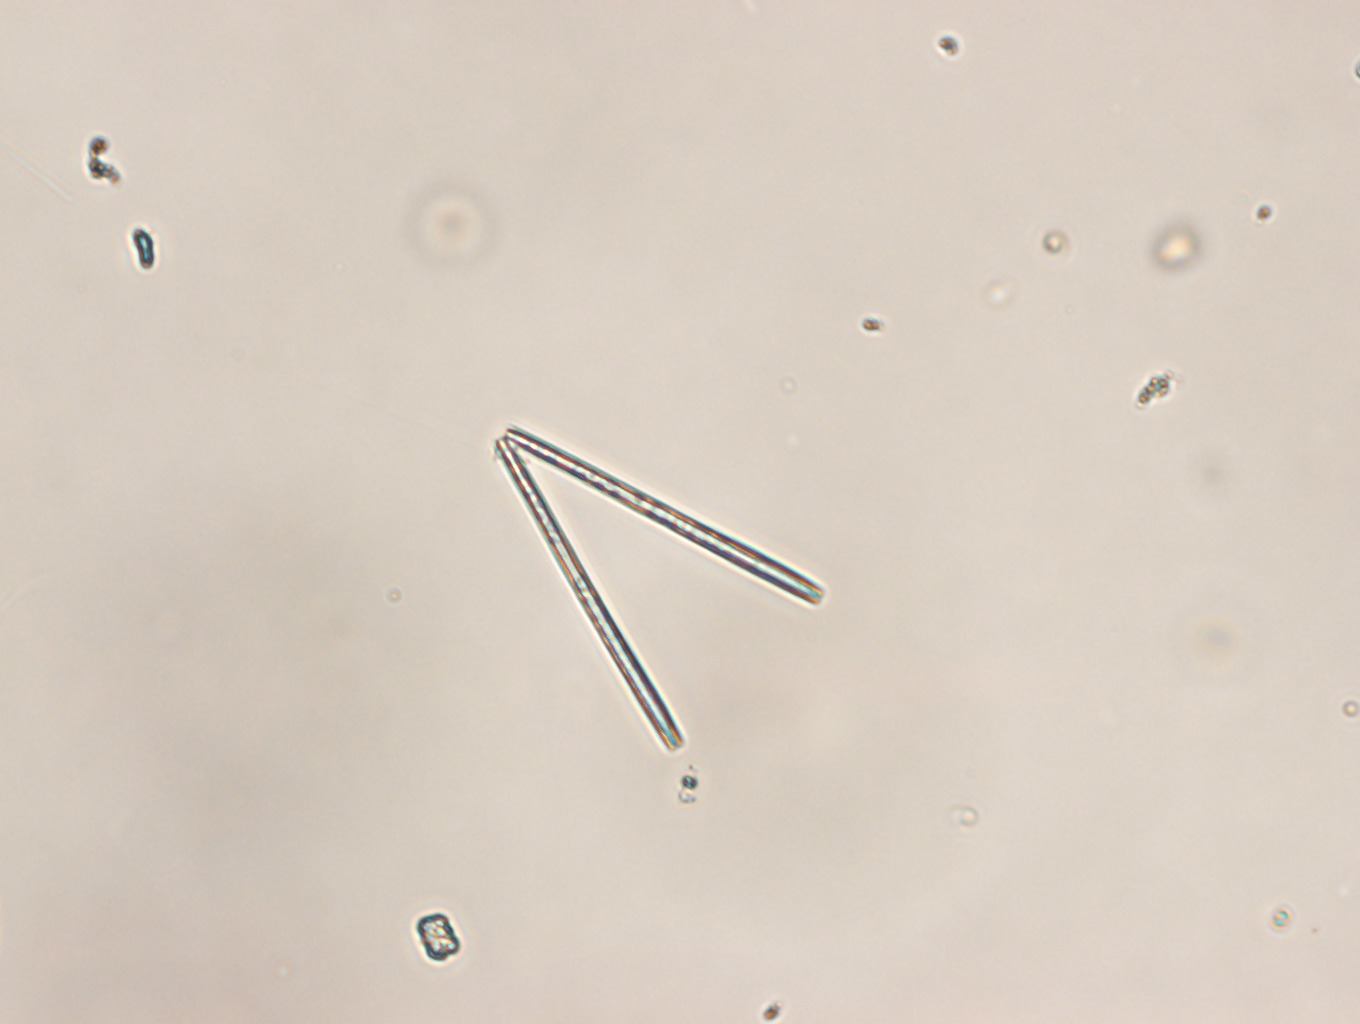thalassionema frauenfeldii: (474, 410, 834, 763)
